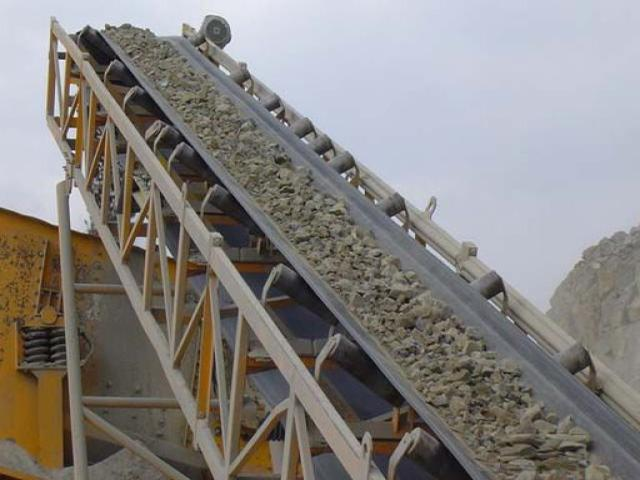conveyor: (39, 11, 639, 479)
